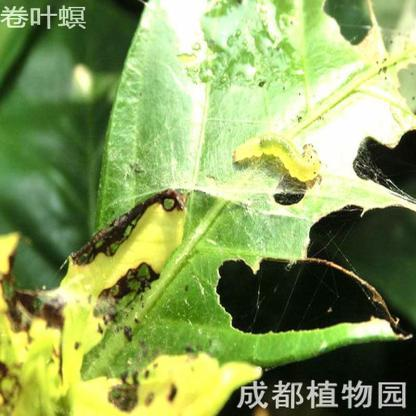leaf-folder: (244, 113, 328, 203)
